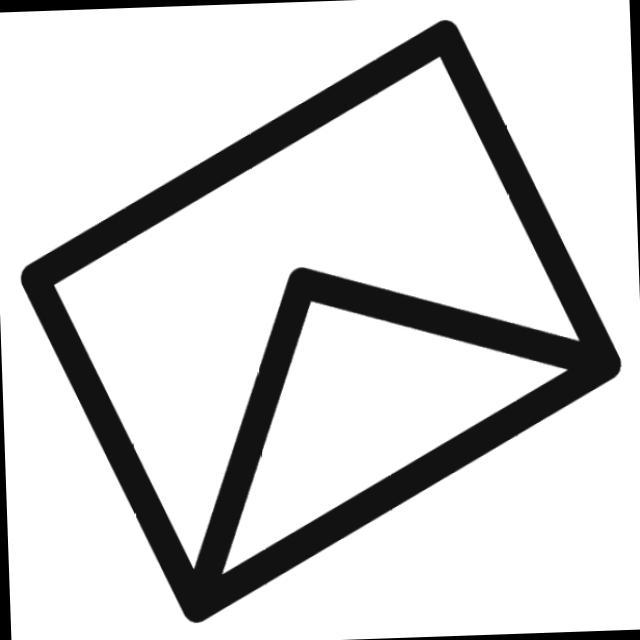letter: (5, 1, 638, 635)
